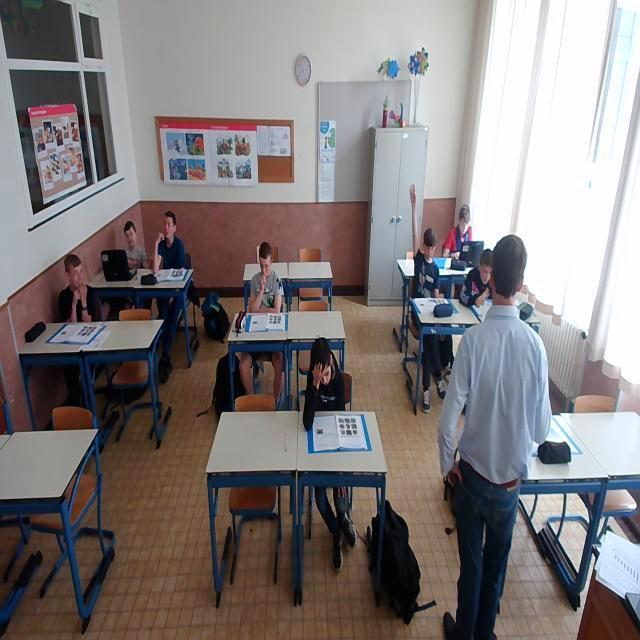Looking away: (455, 203, 470, 234), (163, 210, 176, 238), (125, 221, 136, 250)
Looking forward: (64, 253, 86, 294)
Raising hand: (409, 184, 438, 300)
Reading-writing: (304, 338, 369, 452), (240, 242, 285, 334), (466, 244, 496, 322)
